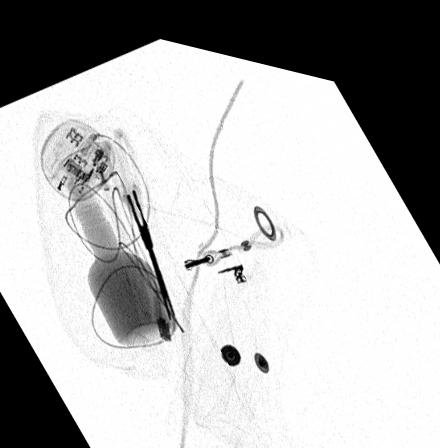Scissors: (122, 179, 180, 317)
